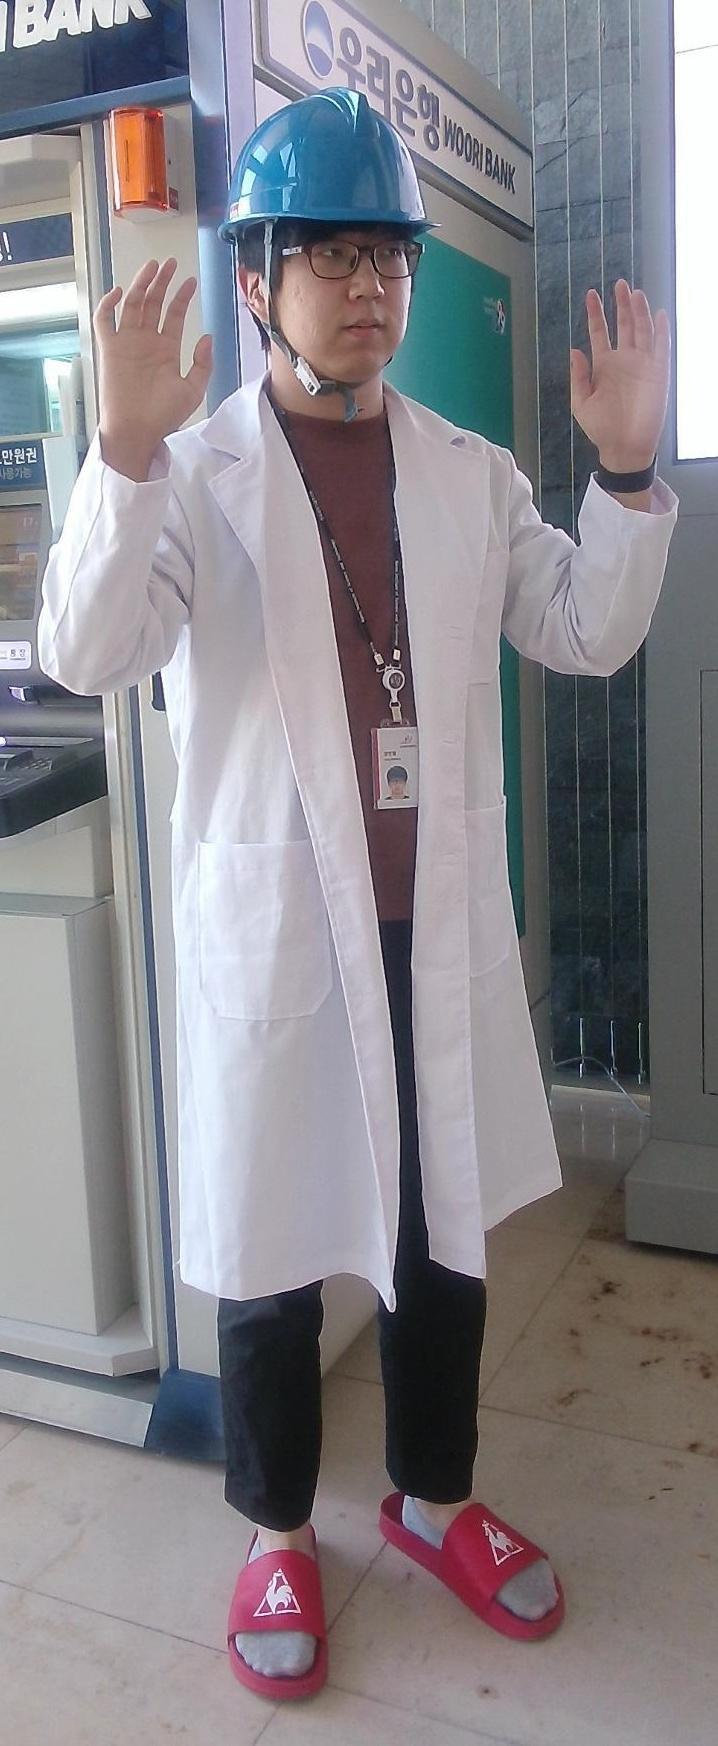lab_coat: (156, 434, 534, 1266)
